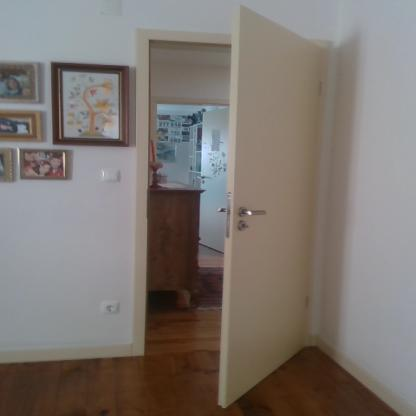semi: (132, 14, 344, 388)
